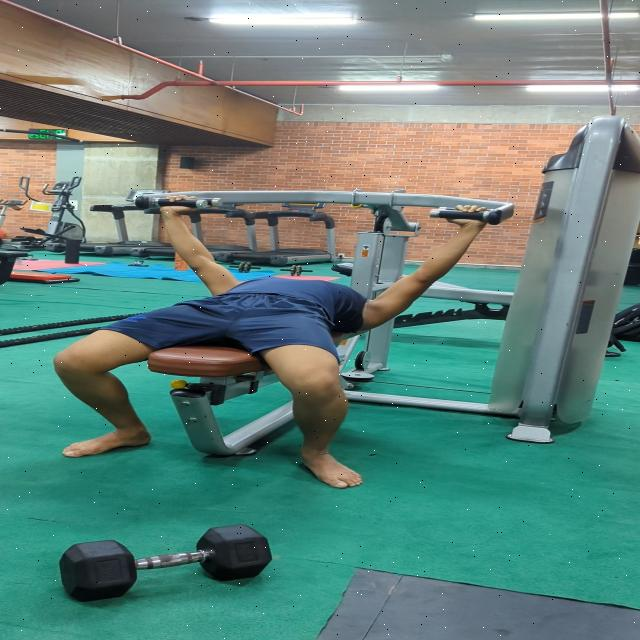Normal_BrenchPress: (12, 153, 519, 498)
